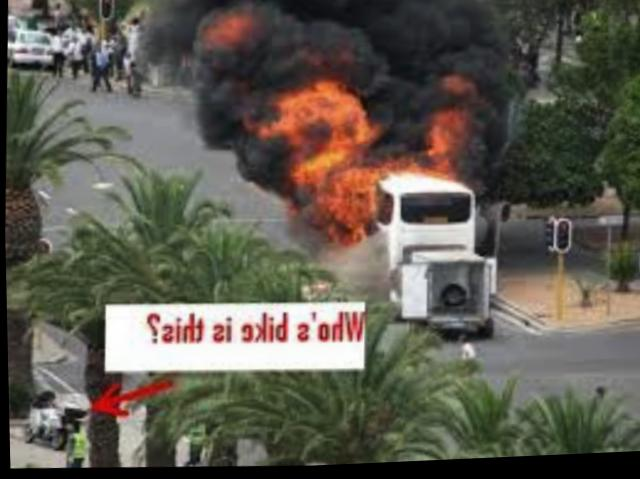fire: (258, 59, 495, 263)
